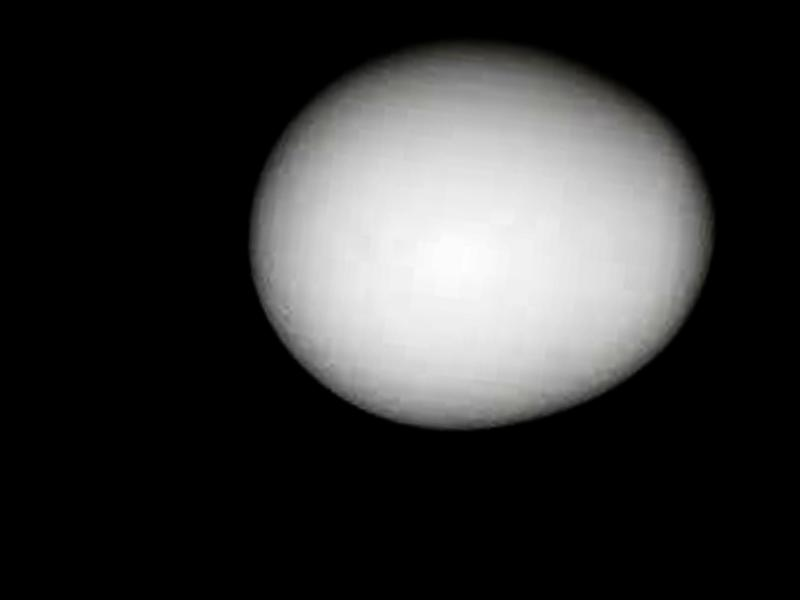Eggs: (226, 23, 727, 454)
